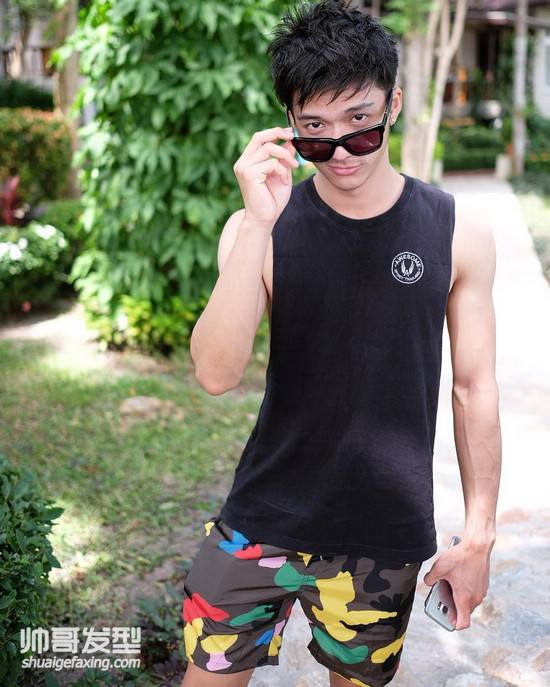person: (233, 15, 455, 631)
